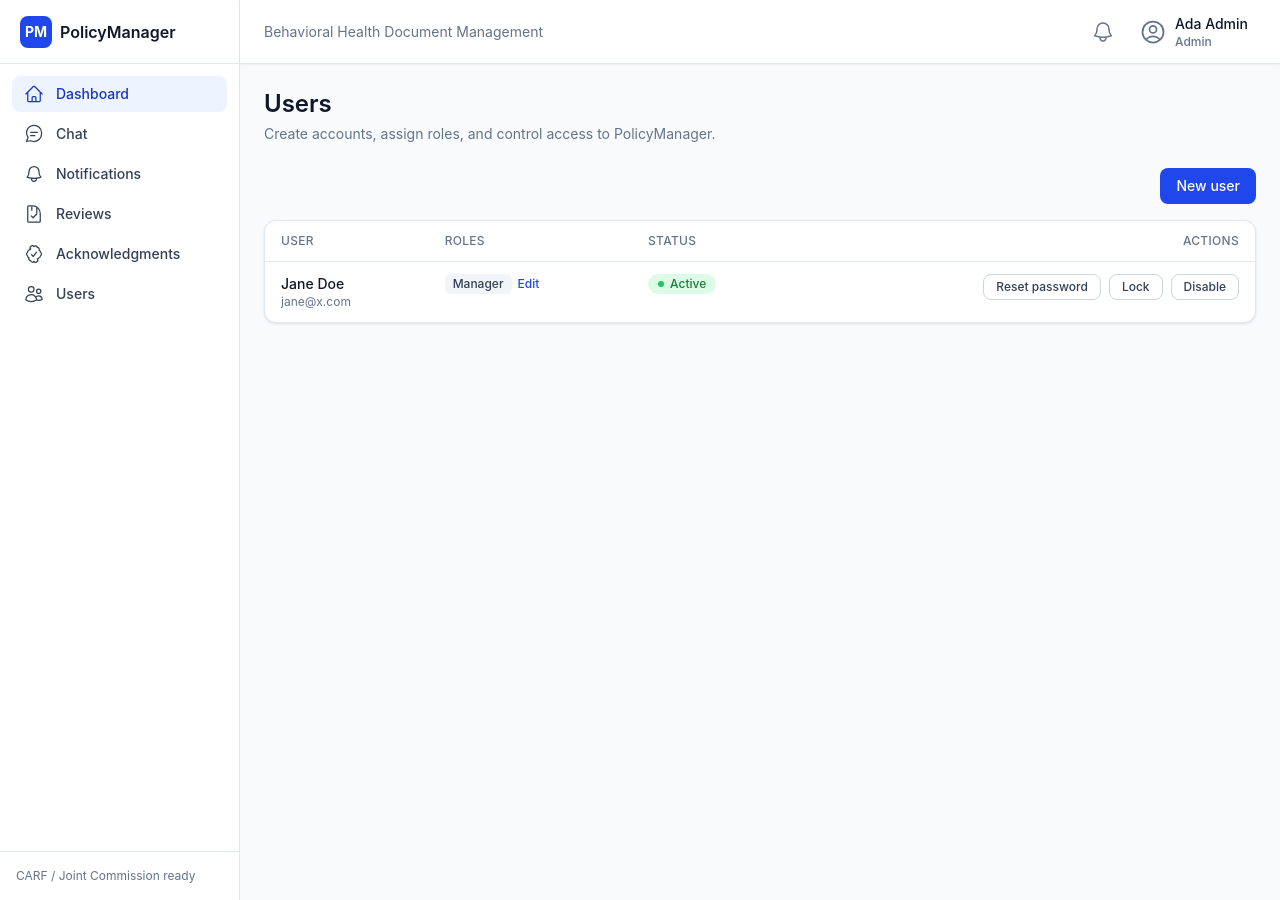
Scenario: UsersPage RBAC + states › opens the reset dialog with temp / email choices
Expected: the text "Jane Doe" is shown, [281, 275, 344, 292]
Click the button "Reset password". click: (1042, 287)
box: [983, 274, 1101, 300]
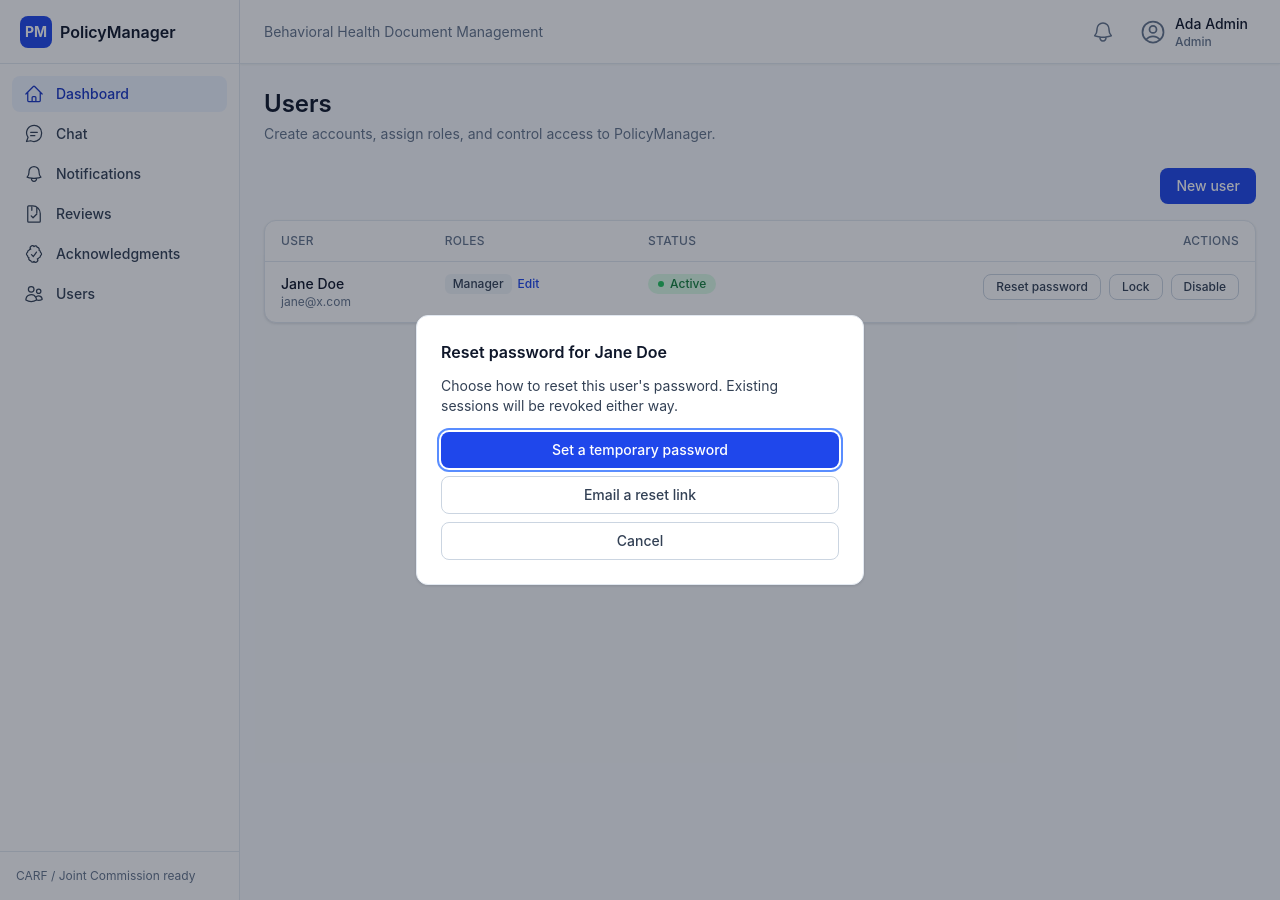
Result: the dialog is shown at [416, 315, 864, 585]
Result: the button "Set a temporary password" is shown at [441, 432, 839, 468]
Result: the button "Email a reset link" is shown at [441, 476, 839, 514]
